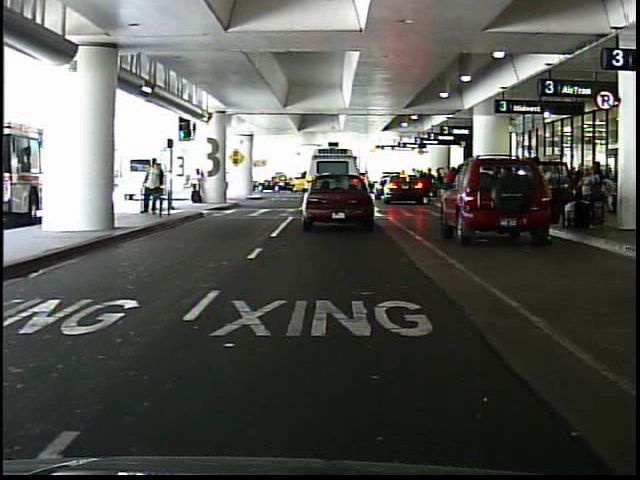person: (528, 154, 559, 234), (141, 156, 162, 217), (156, 162, 172, 216), (188, 167, 207, 207), (442, 163, 459, 201)
